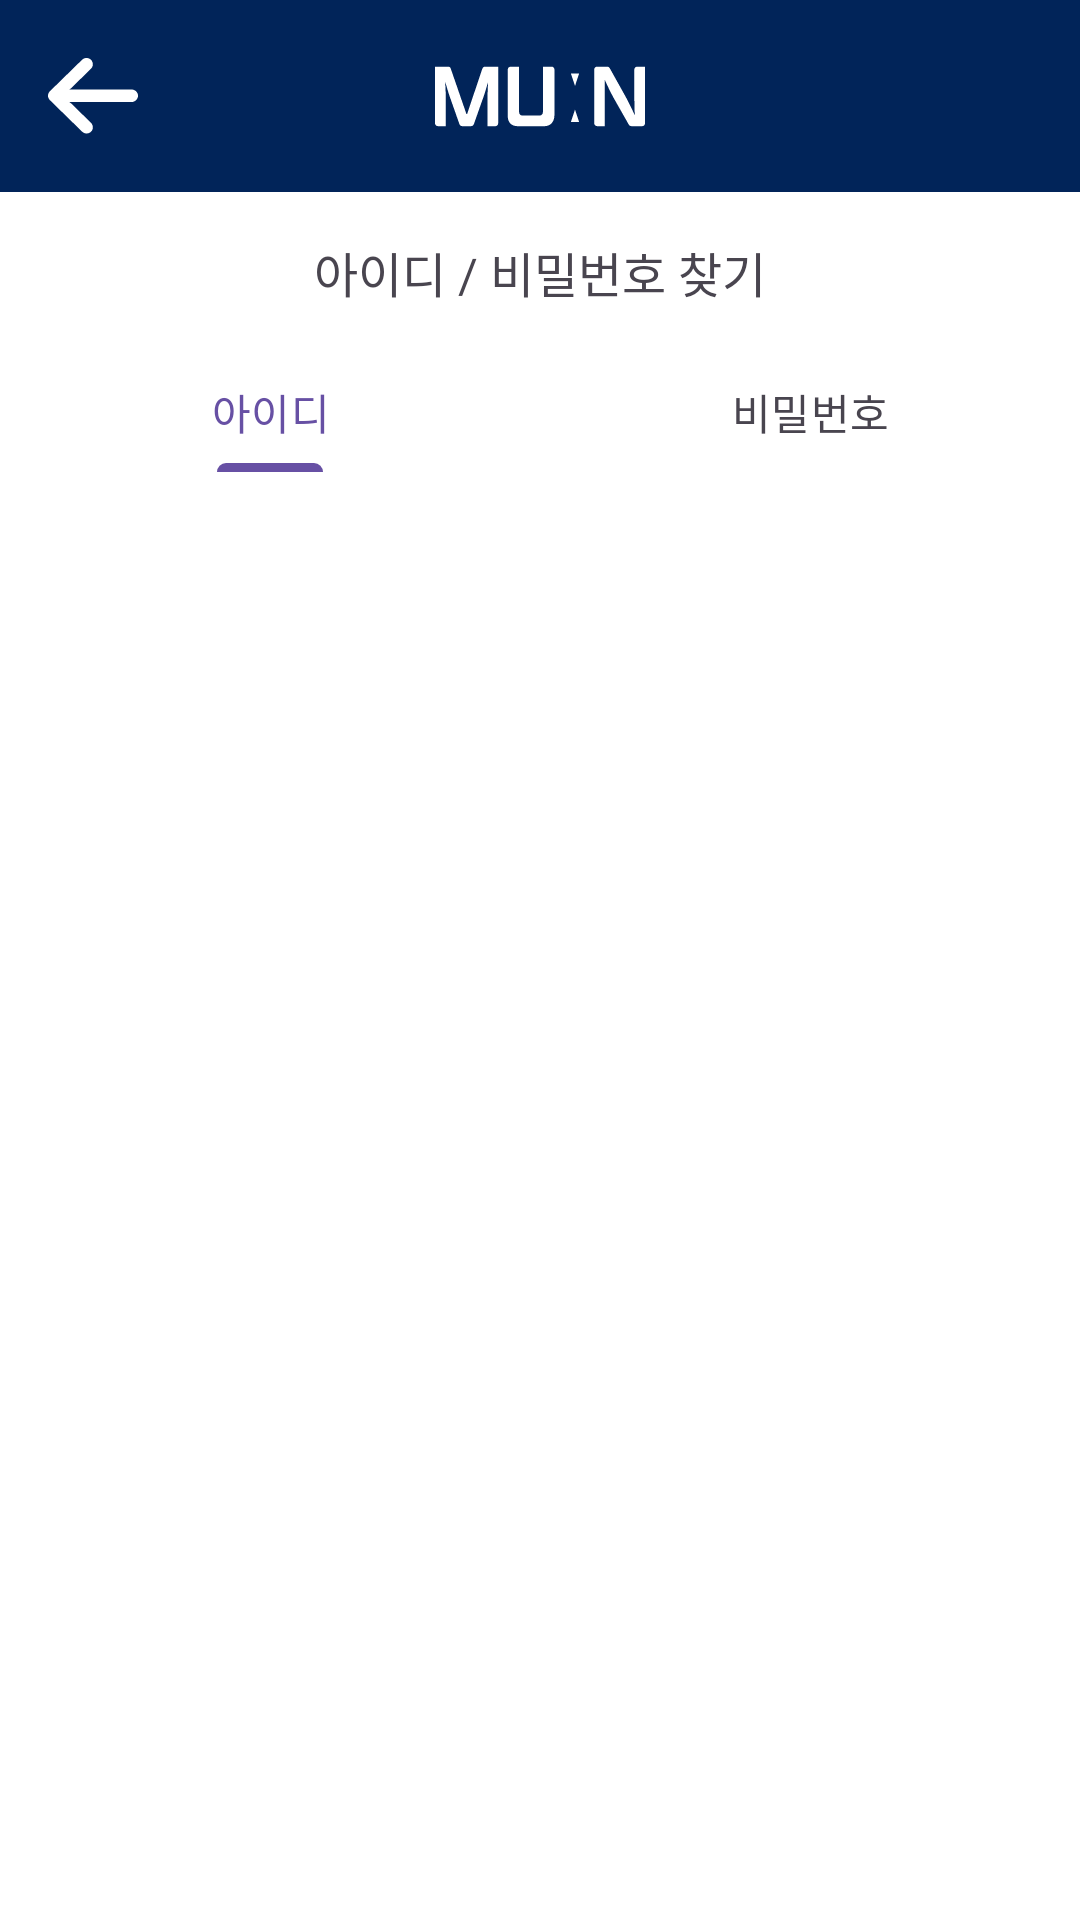

Locate icon controls on the screen. Image size 1080*1920, boxes as [x1, y1, x2, y2].
back: [48, 58, 138, 134]
